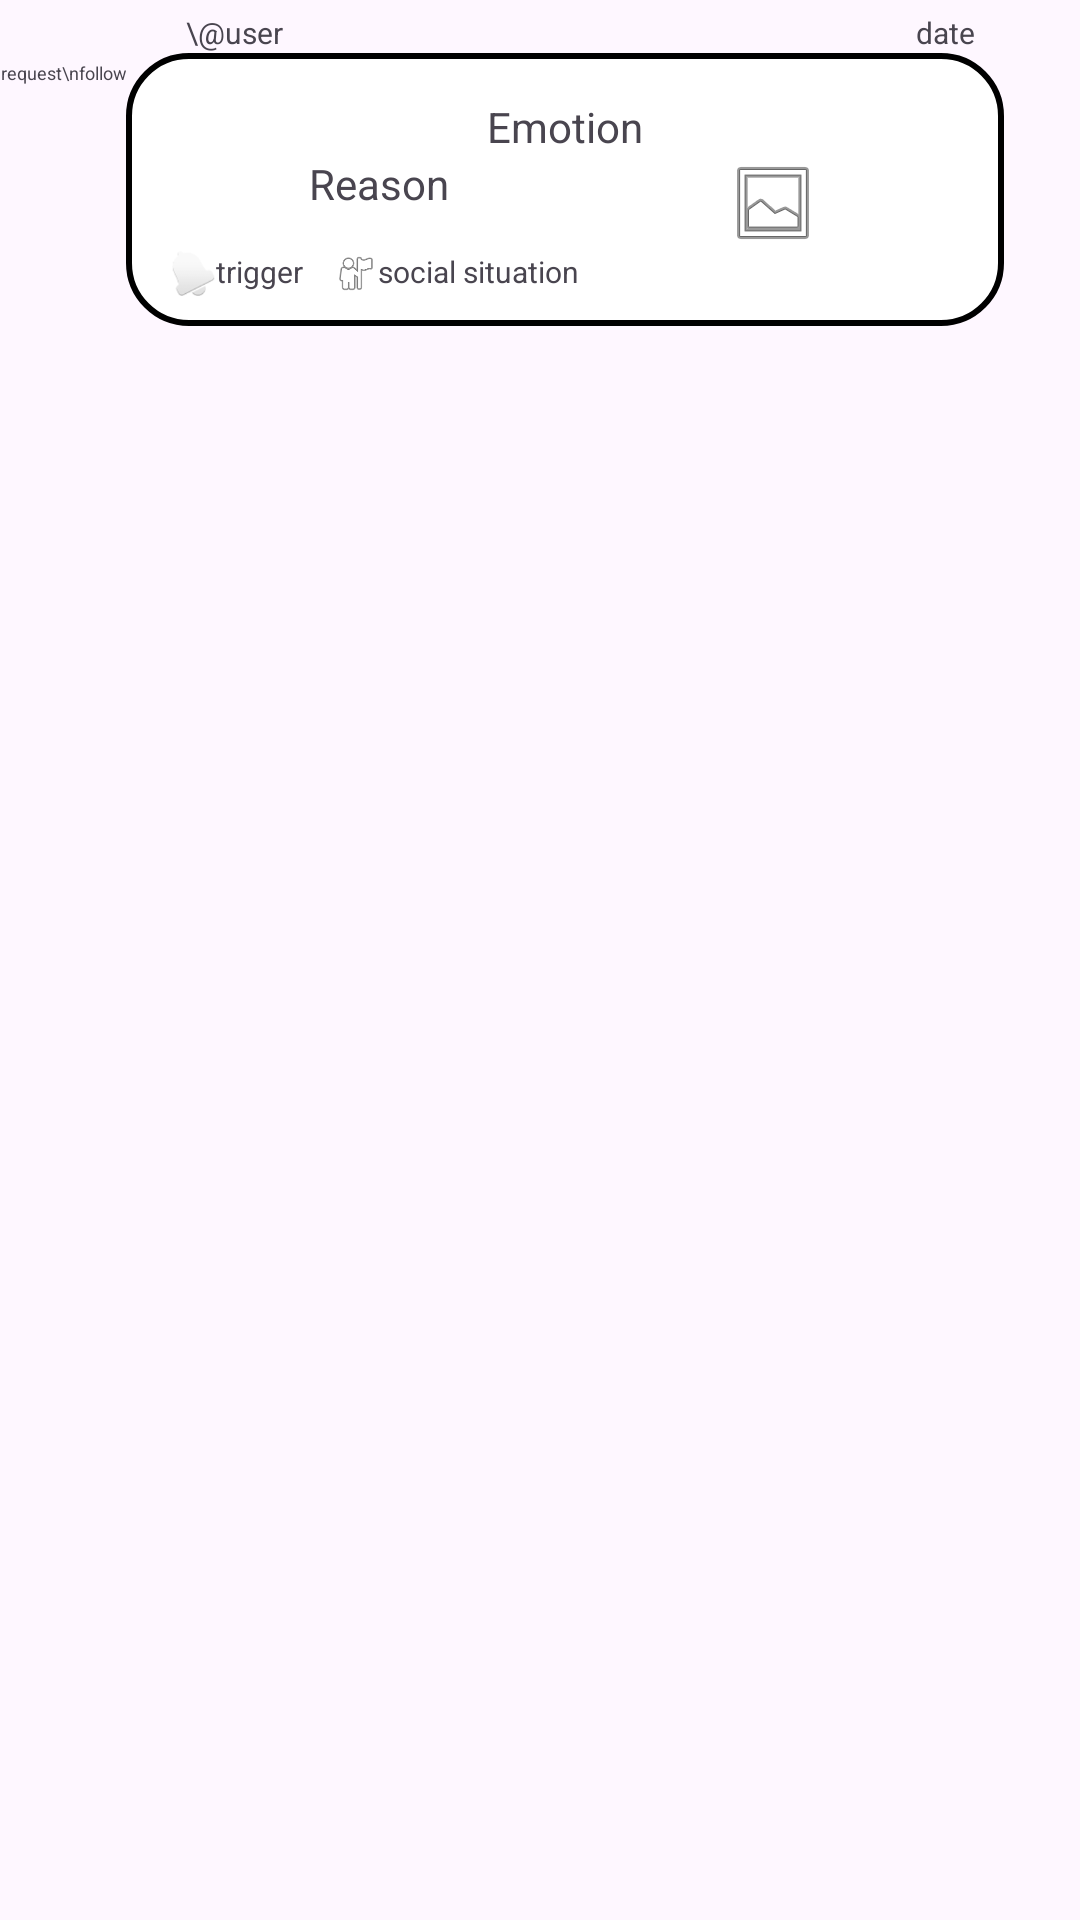

Screen size 1080 x 1920. Icon name, then its box in pixels as (left=x1, top=y1, right=x2, bottom=y2):
gallery: (left=737, top=167, right=809, bottom=239)
